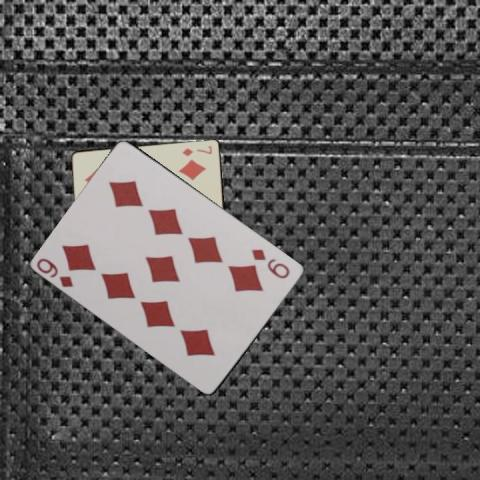7d: (180, 143, 214, 157)
9d: (249, 245, 292, 281), (34, 255, 76, 288)
